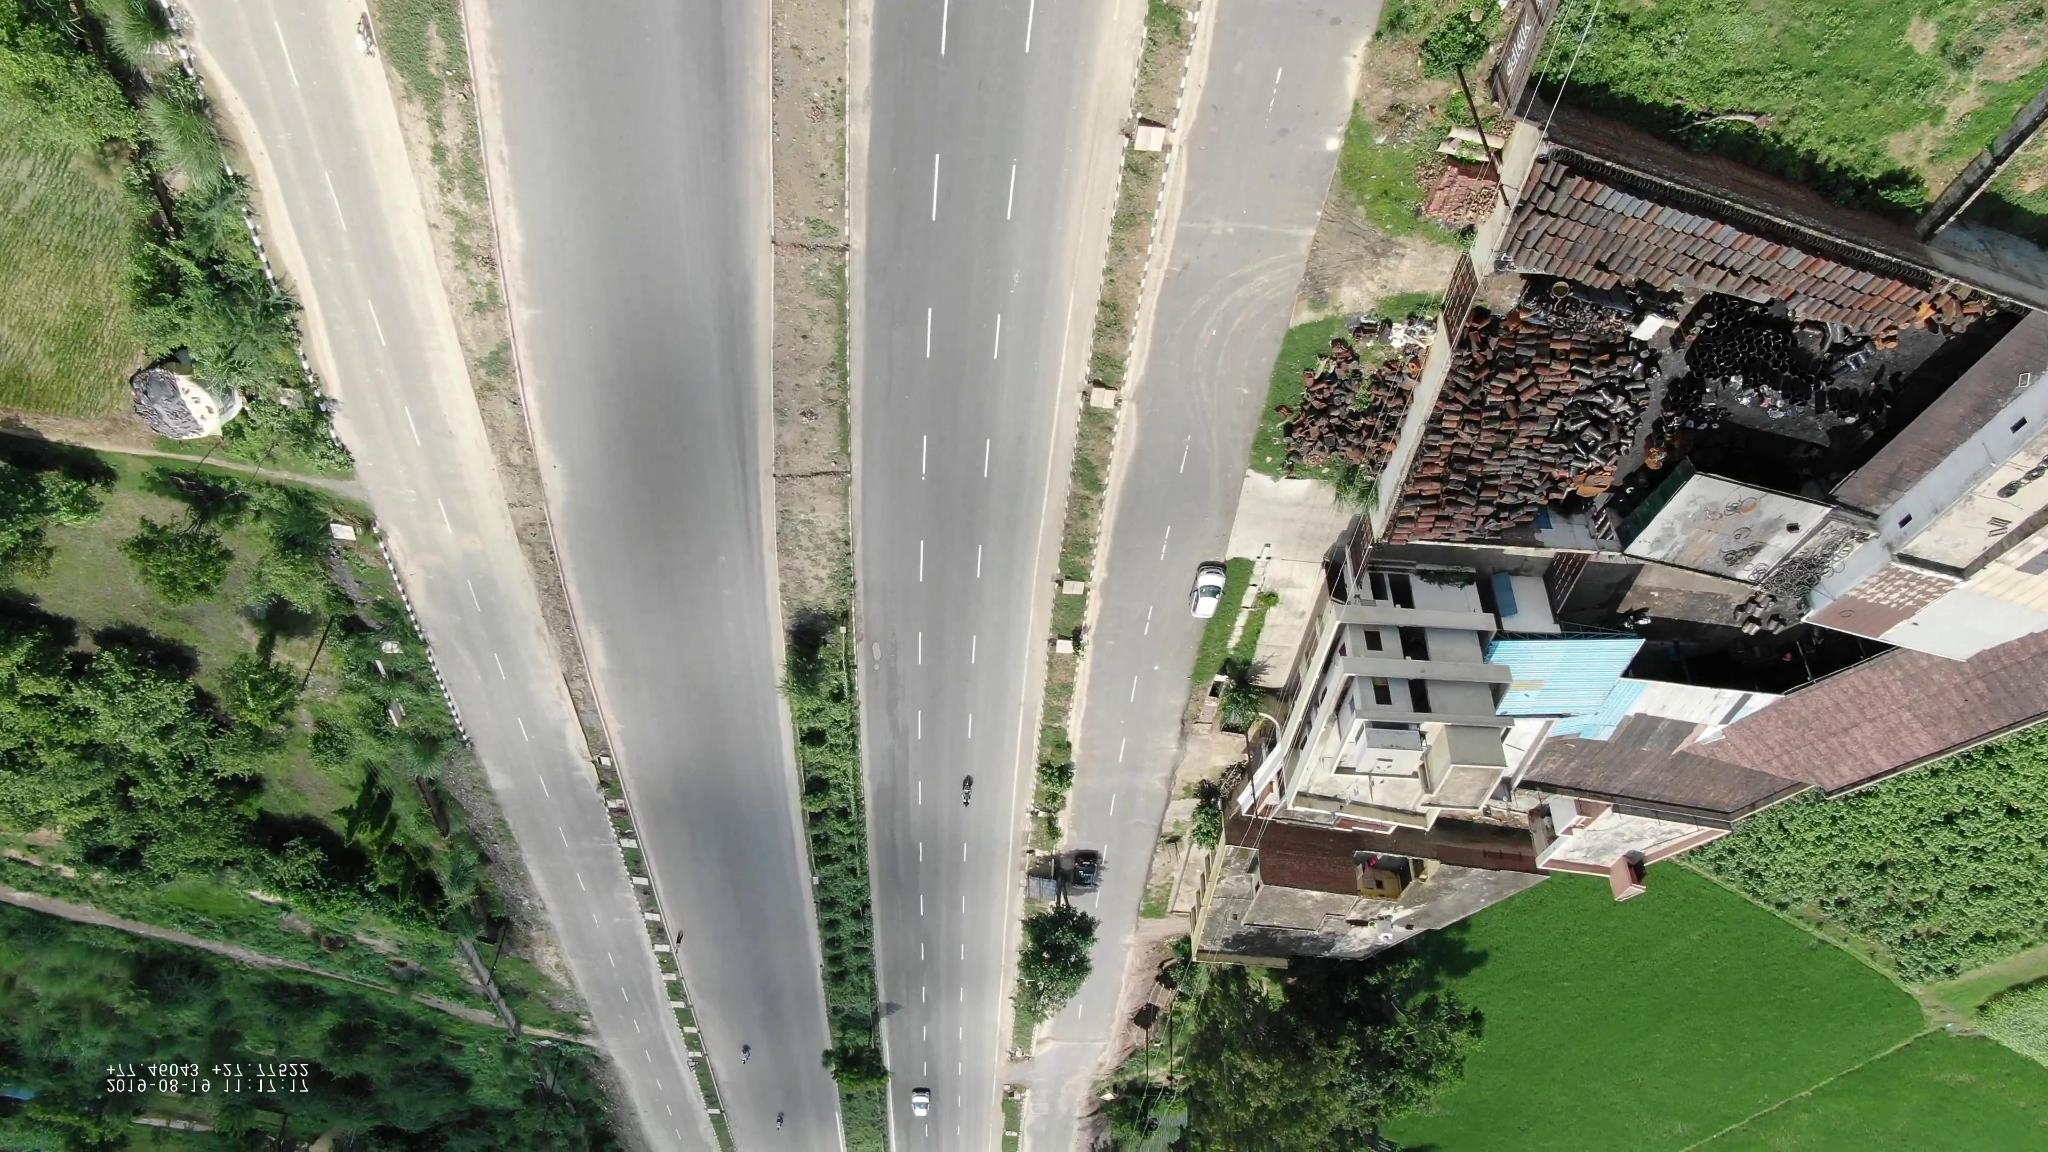Potholes: (866, 639, 896, 688)
